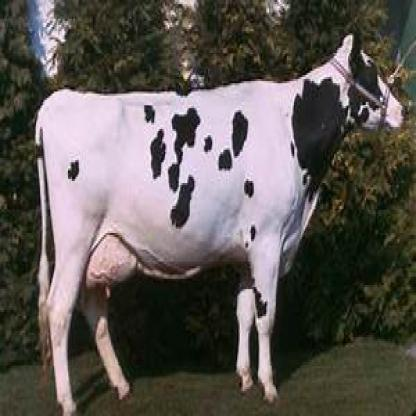cow: (35, 33, 406, 414)
